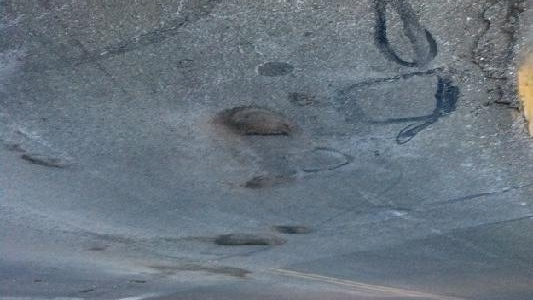pothole: (469, 1, 528, 111), (218, 105, 299, 139), (212, 232, 285, 250), (21, 149, 73, 171), (273, 223, 312, 237)
